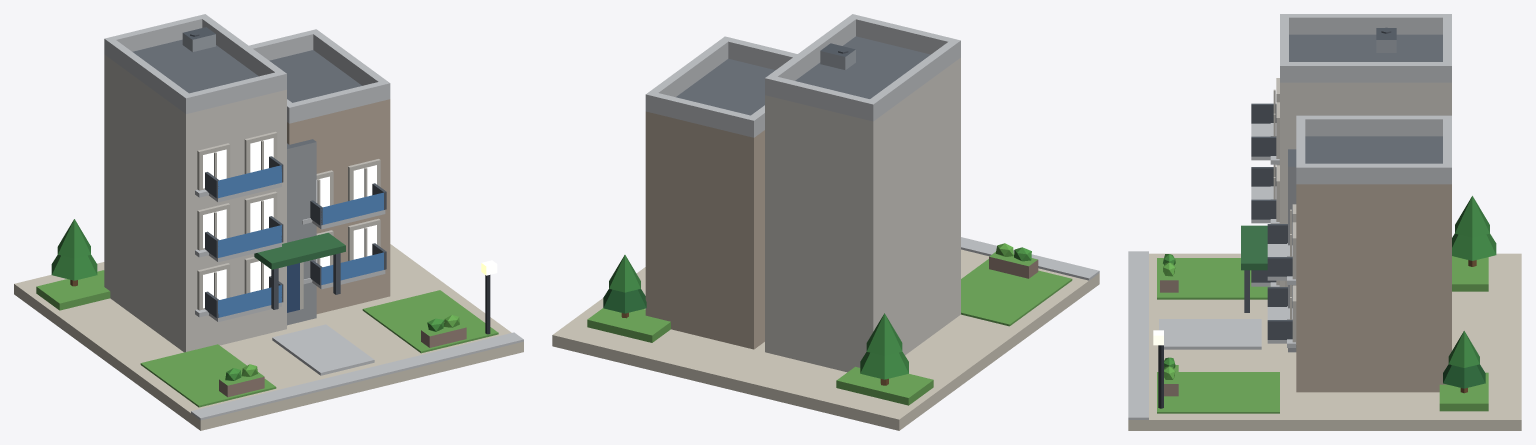
3 renders of one model, left to right at view 1: azimuth 30°, elevation 25°; view 2: azimuth 150°, elevation 25°; view 3: azimuth 270°, elevation 25°, orthographic. The views are drawn at different scales.
Visible parts, largest first — view 1: b06_v2; view 2: b06_v2; view 3: b06_v2.
Part boxes in pixels (x1=…): b06_v2: x1=14, y1=14, x2=523, y2=430; b06_v2: x1=552, y1=14, x2=1099, y2=430; b06_v2: x1=1128, y1=14, x2=1521, y2=430.
Bounding box in the file's own units: 0.96 × 0.794 × 0.96.
